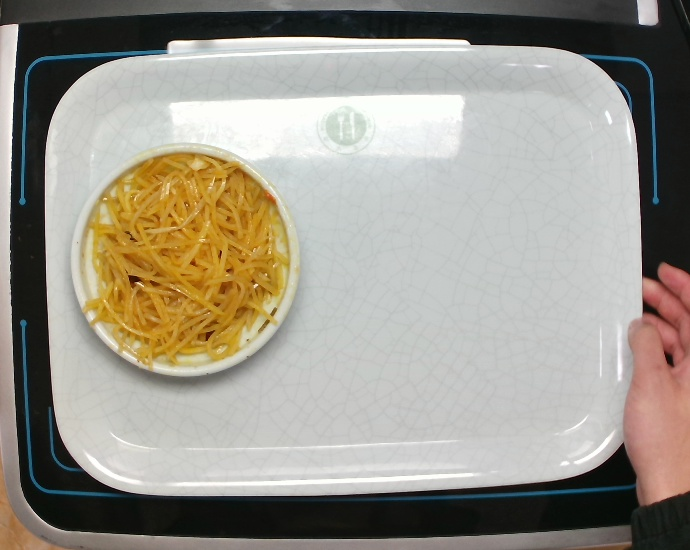JYsf-Xiao_Yuan_Pan: (58, 140, 308, 382)
